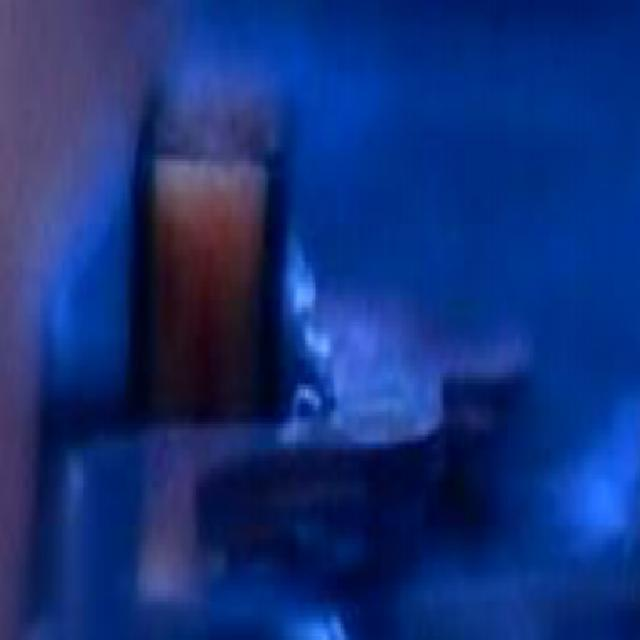No Good: (267, 197, 360, 426)
